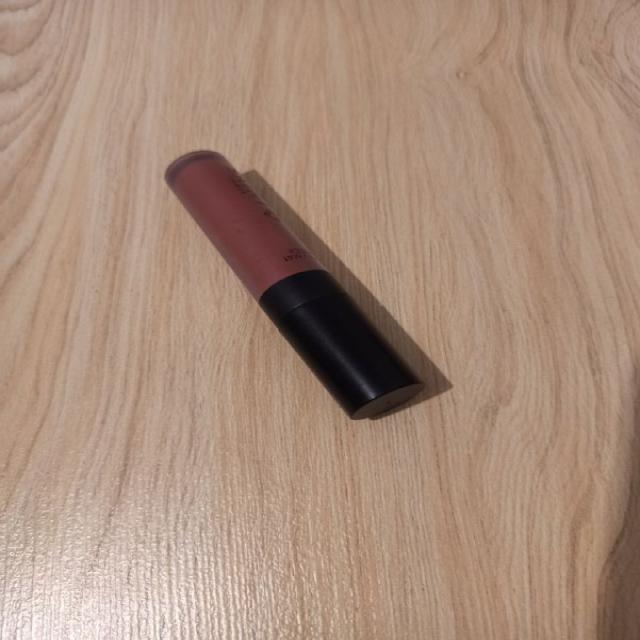lipstick: (163, 149, 424, 420)
